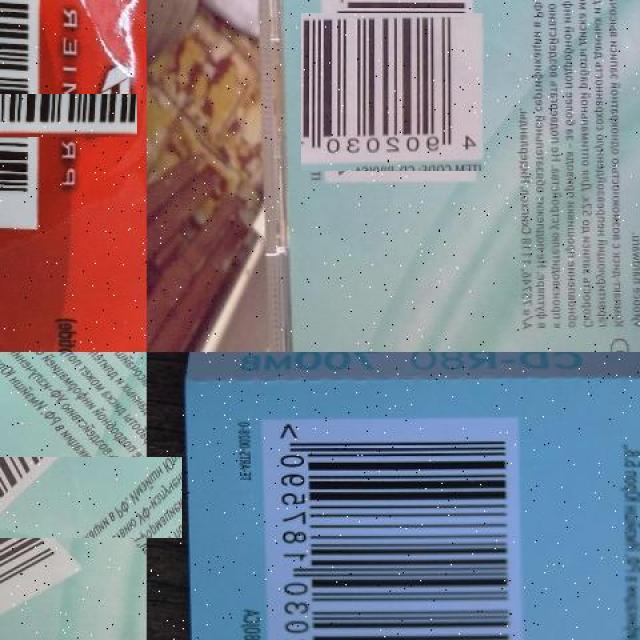Barcode: (257, 417, 523, 640), (307, 6, 478, 177), (0, 406, 131, 589), (0, 47, 90, 184)
